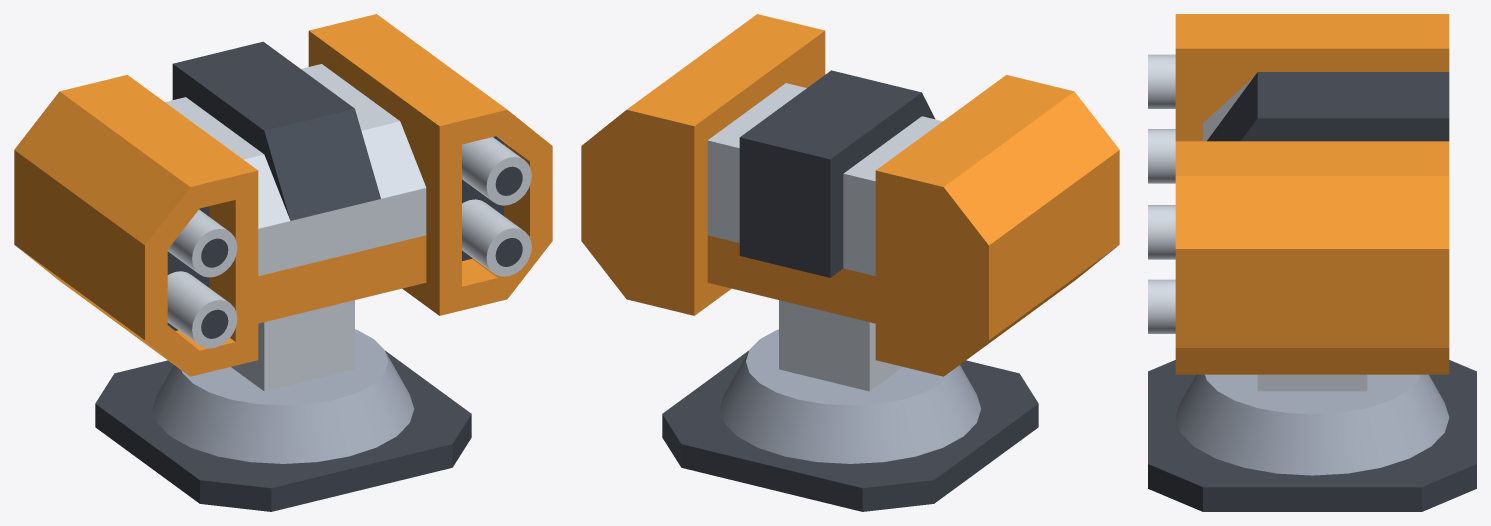
File: turret_double.glb
3 views of the same model, side by side, from view 1: azimuth 30°, elevation 25°; view 2: azimuth 150°, elevation 25°; view 3: azimuth 270°, elevation 25° (orthographic). The views are drawn at different scales.
Parts seen in each view (by area): view 1: turret, turret_double; view 2: turret, turret_double; view 3: turret, turret_double.
Part boxes in pixels (x1=…): turret: x1=14, y1=14, x2=552, y2=376; turret_double: x1=95, y1=300, x2=471, y2=511; turret: x1=581, y1=14, x2=1119, y2=376; turret_double: x1=662, y1=300, x2=1038, y2=511; turret: x1=1148, y1=14, x2=1449, y2=374; turret_double: x1=1148, y1=360, x2=1476, y2=511.
Size of the model in its own units: 0.9 by 0.7 by 0.6.
